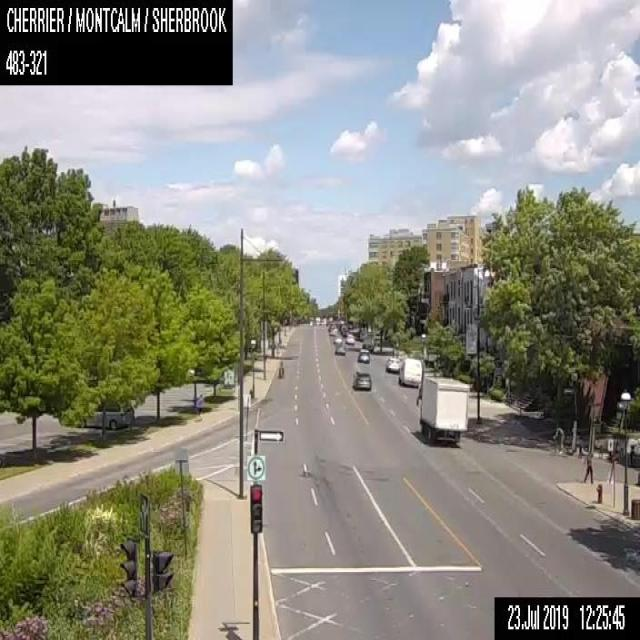cyclist: (547, 422, 567, 457)
pedestrian: (582, 448, 592, 484), (194, 392, 203, 420)
vehicle: (416, 376, 468, 445), (80, 400, 133, 427), (397, 357, 421, 386), (352, 370, 370, 390), (384, 357, 400, 372), (357, 348, 369, 362), (334, 342, 346, 354), (345, 333, 355, 344), (332, 333, 342, 343), (278, 360, 283, 377), (328, 325, 337, 334)
